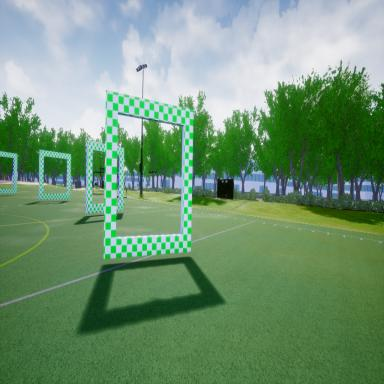gate: (102, 86, 194, 268)
